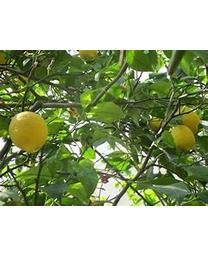lemon: (9, 112, 48, 152), (170, 125, 195, 152)
